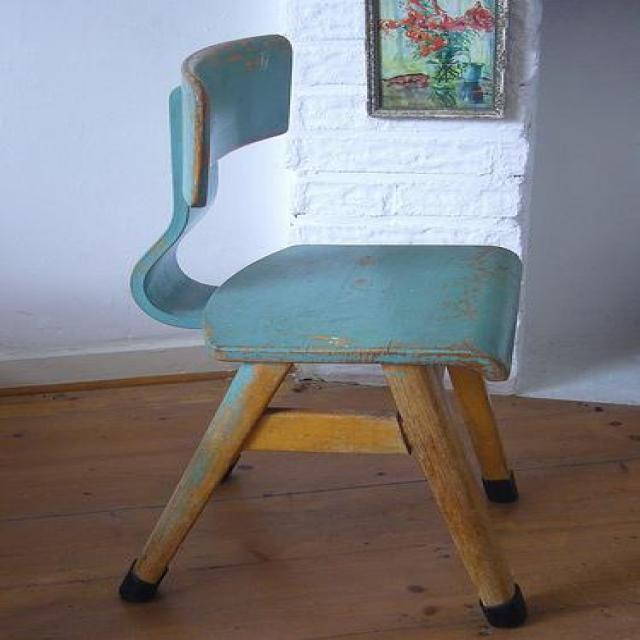chair: (121, 29, 533, 630)
